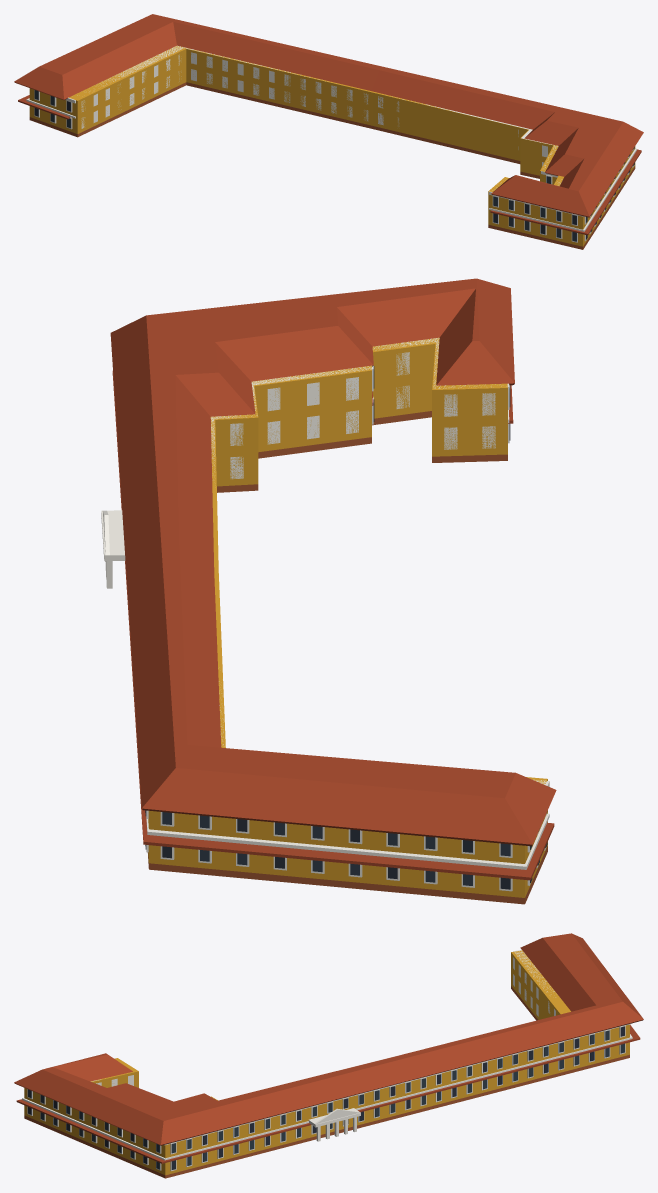
The model's file is imb.glb.
The picture shows the model from 3 angles, top to bottom: view 1: azimuth 30°, elevation 25°; view 2: azimuth 150°, elevation 25°; view 3: azimuth 270°, elevation 25°; orthographic projection. The views are drawn at different scales.
Parts seen in each view (by area): view 1: r, p.001, p, p.004, p.002, p.003; view 2: r, p.001, p.004, p, p.003, p.002, Cube.421; view 3: r, p.001, p, p.004, p.003, p.002.
Part boxes in pixels (left/top/right/bottom): r: left=14, top=14, right=643, bottom=217; p.001: left=29, top=46, right=635, bottom=246; p: left=29, top=82, right=635, bottom=249; p.004: left=18, top=95, right=641, bottom=235; p.002: left=65, top=45, right=584, bottom=216; p.003: left=26, top=98, right=636, bottom=231; r: left=110, top=278, right=556, bottom=846; p.001: left=148, top=337, right=547, bottom=897; p.004: left=112, top=371, right=554, bottom=880; p: left=147, top=411, right=547, bottom=904; p.003: left=146, top=398, right=549, bottom=869; p.002: left=211, top=338, right=549, bottom=786; Cube.421: left=101, top=510, right=125, bottom=560; r: left=14, top=933, right=643, bottom=1145; p.001: left=24, top=950, right=629, bottom=1175; p: left=24, top=986, right=629, bottom=1178; p.004: left=16, top=1024, right=640, bottom=1163; p.003: left=22, top=1034, right=632, bottom=1160; p.002: left=91, top=950, right=632, bottom=1145.
Size of the model in its own units: 138 by 15.9 by 177.
